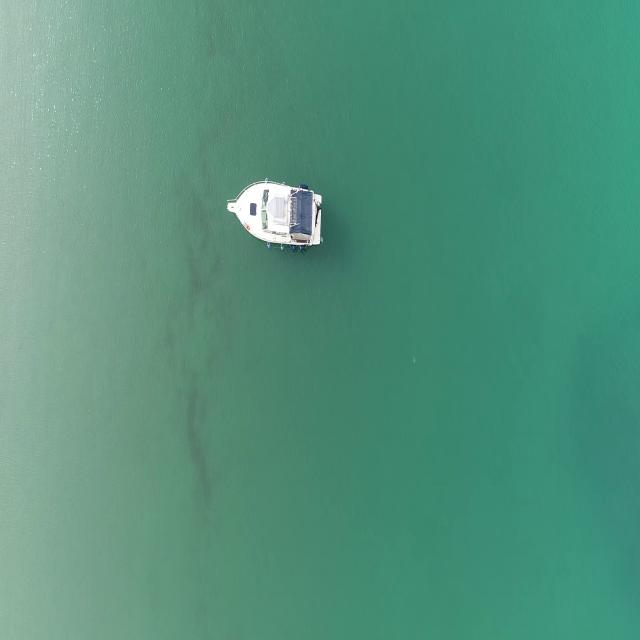boat: (226, 178, 324, 256)
